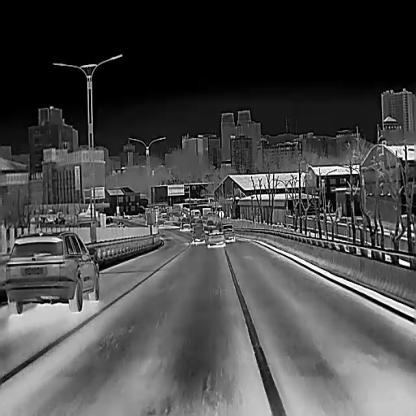car: (5, 230, 99, 314), (143, 206, 165, 227), (207, 227, 224, 245), (190, 224, 205, 240), (221, 222, 235, 237), (181, 221, 191, 229), (190, 208, 200, 216)
